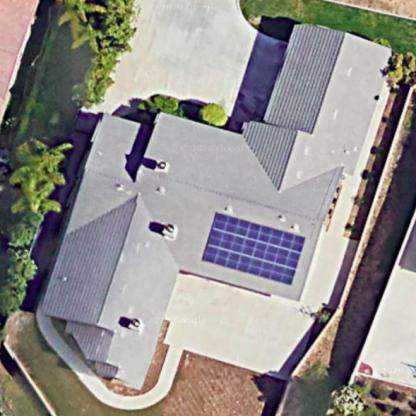solar_panel: (194, 202, 308, 296)
